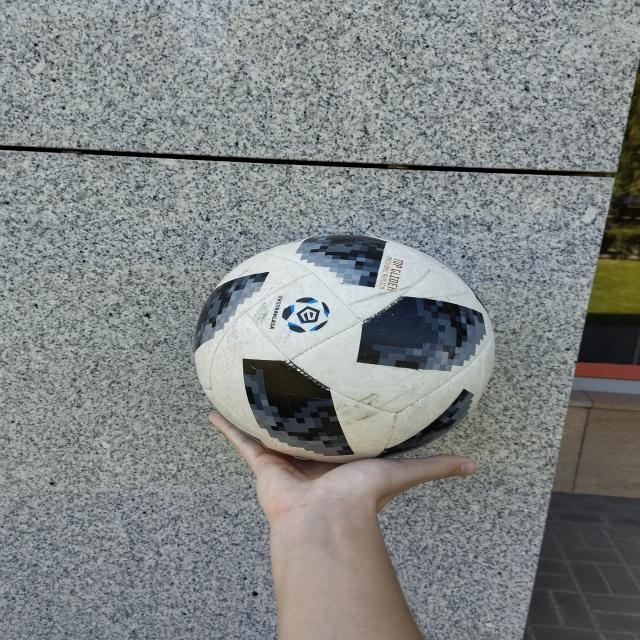nozna: (193, 233, 494, 463)
